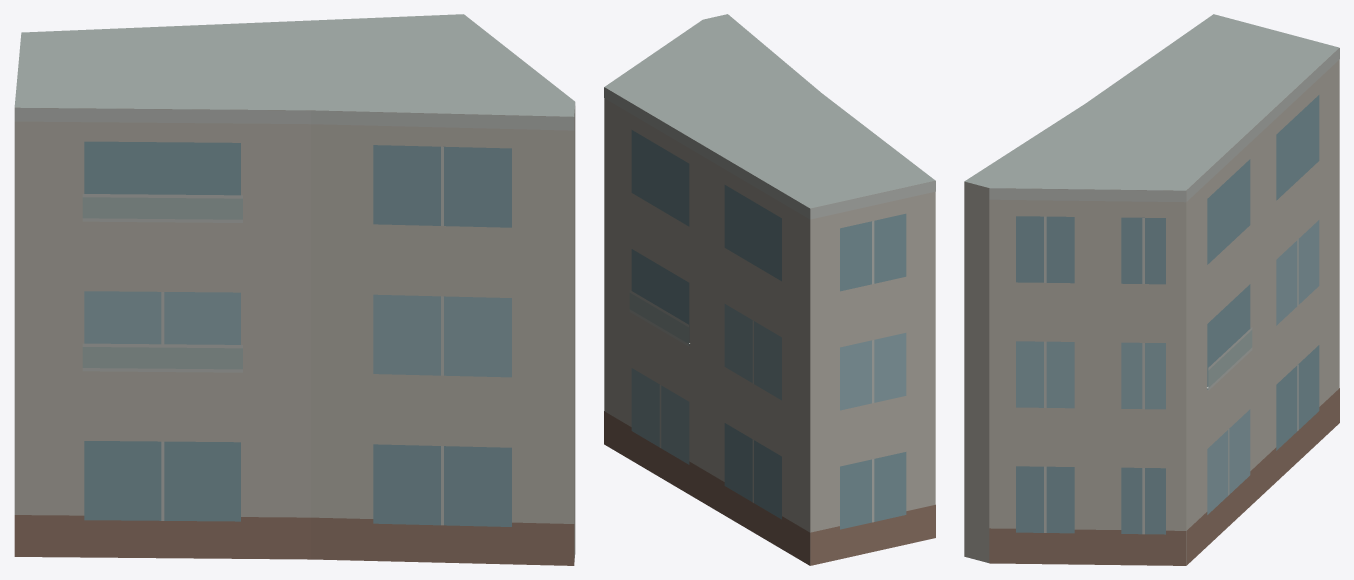
The model's file is survey-upis-32969255.glb.
3 views of the same model, side by side, from view 1: azimuth 30°, elevation 25°; view 2: azimuth 150°, elevation 25°; view 3: azimuth 270°, elevation 25° (orthographic). The views are drawn at different scales.
Visible parts, largest first — view 1: survey-upis-32969255.tmp; view 2: survey-upis-32969255.tmp; view 3: survey-upis-32969255.tmp.
Part boxes in pixels (bbox=[...]): survey-upis-32969255.tmp: bbox=[14, 14, 575, 565]; survey-upis-32969255.tmp: bbox=[604, 14, 935, 565]; survey-upis-32969255.tmp: bbox=[964, 14, 1339, 565].
Bounding box in the file's own units: 7.98 × 7.9 × 7.17.
